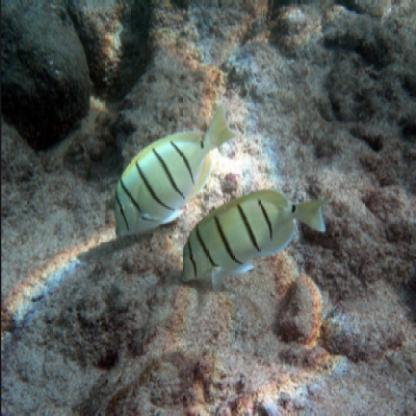Acanthuridae -Surgeonfishes-: (114, 97, 243, 238), (179, 188, 331, 288)
